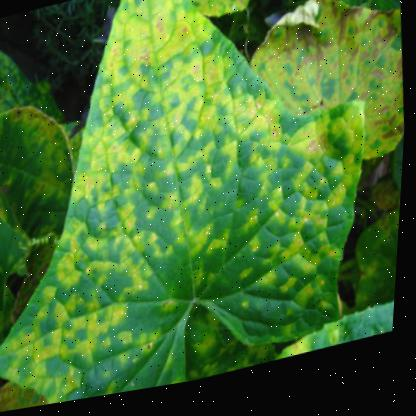DownyMildew: (43, 0, 265, 249), (190, 104, 371, 321), (0, 229, 185, 412)
